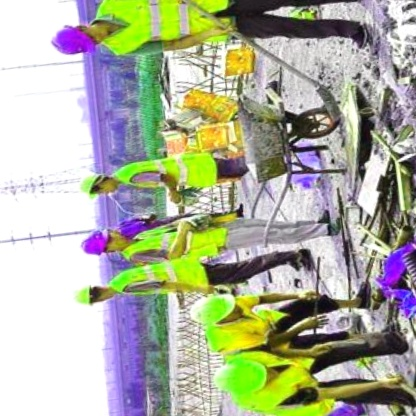blue: (44, 18, 101, 66), (72, 226, 114, 266)
vest: (88, 0, 238, 67), (112, 214, 225, 275), (112, 146, 220, 203), (104, 255, 209, 310)
yellow: (207, 352, 271, 404), (184, 290, 239, 334), (73, 172, 108, 204), (65, 284, 98, 313)
